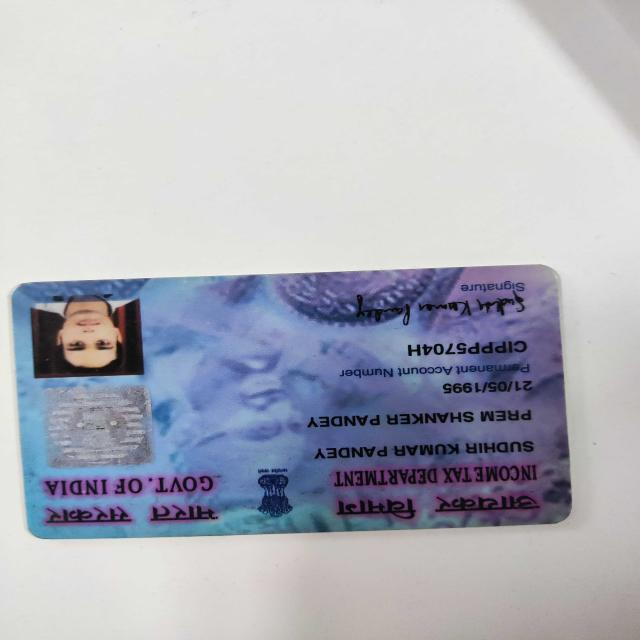pan_card: (71, 104, 626, 375)
